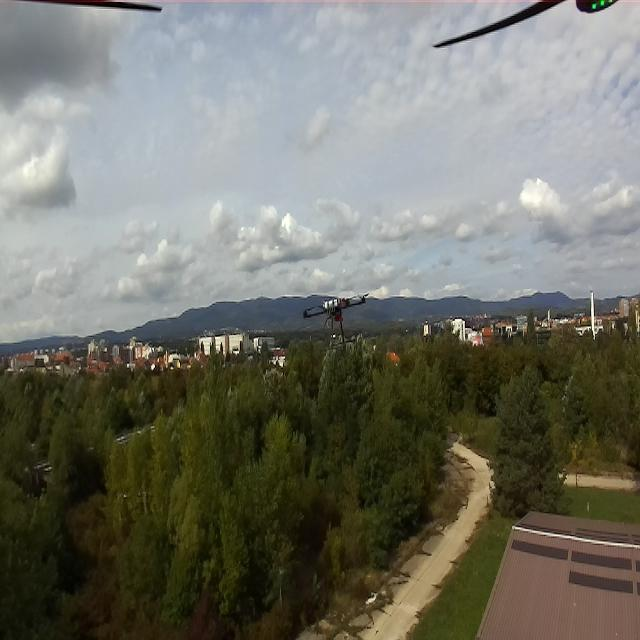UAV: (301, 289, 371, 355)
